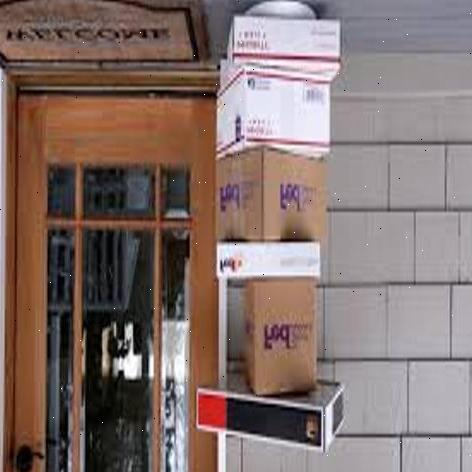FedEx: (240, 278, 325, 400), (219, 153, 330, 244), (217, 238, 324, 278)
